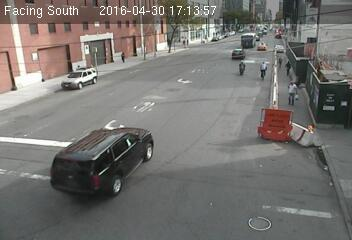neg: (103, 137, 134, 178), (321, 70, 351, 112), (40, 156, 69, 195), (311, 29, 338, 65), (301, 121, 324, 151), (19, 52, 38, 78), (197, 32, 214, 55), (148, 32, 164, 53), (62, 68, 76, 88)
pos: (281, 76, 304, 107), (255, 56, 272, 79), (282, 56, 297, 77), (115, 47, 128, 63)
